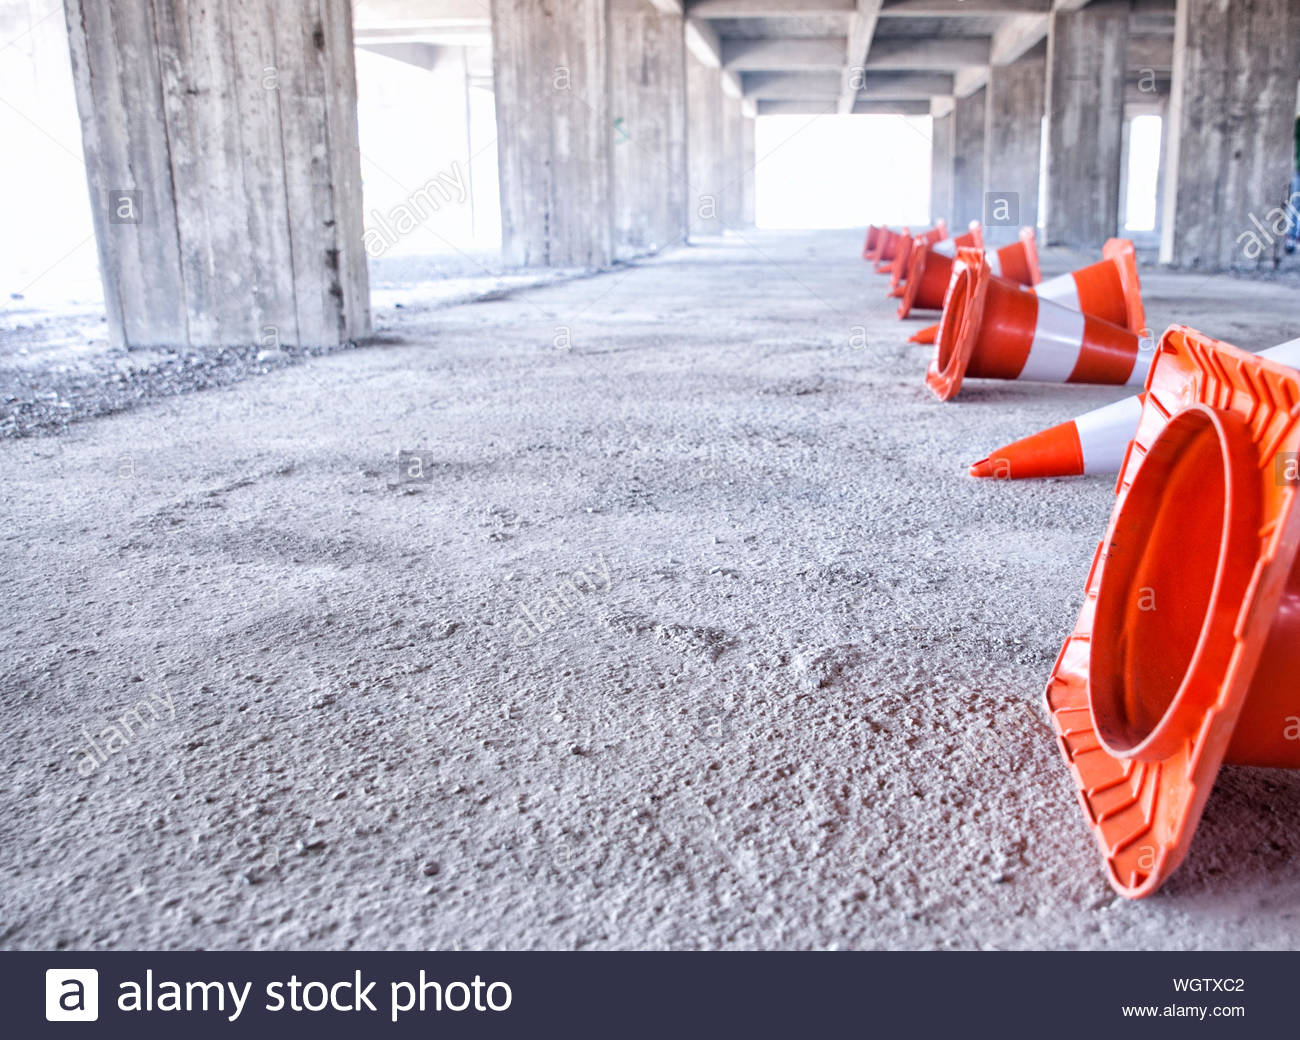cones: (1018, 329, 1292, 912), (906, 243, 1154, 385)
